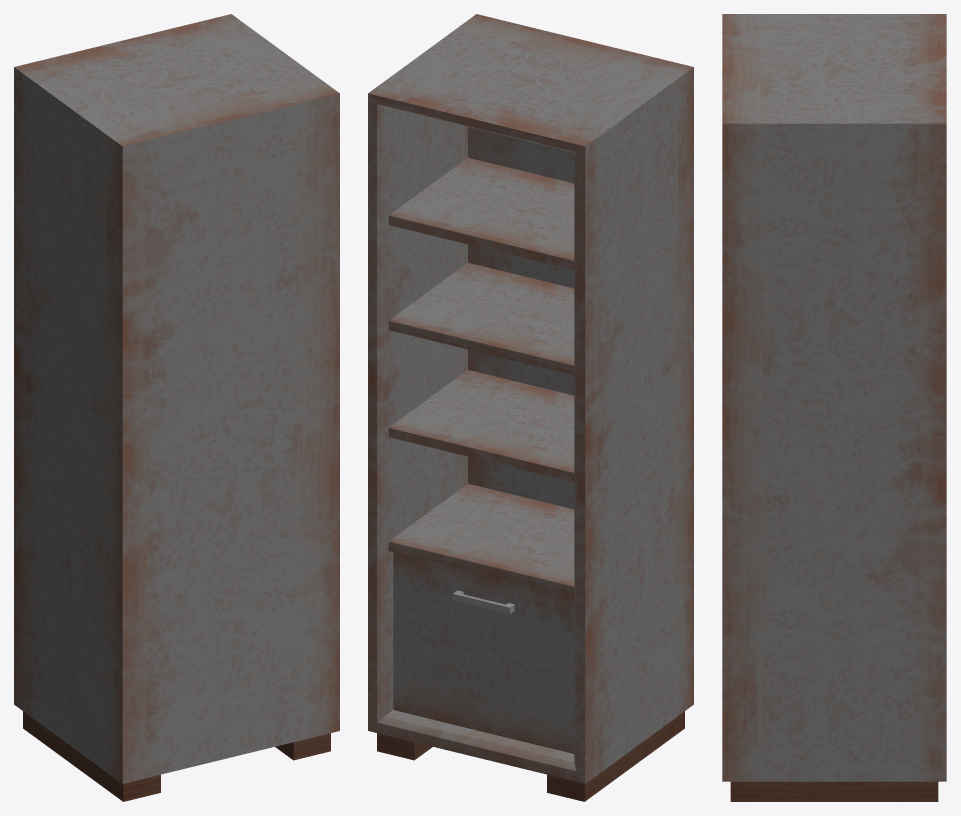
The model's file is ClosetHigh.fbx.
3 renders of one model, left to right at view 1: azimuth 30°, elevation 25°; view 2: azimuth 150°, elevation 25°; view 3: azimuth 270°, elevation 25°, orthographic. The views are drawn at different scales.
Parts seen in each view (by area): view 1: ClossetHigh; view 2: ClossetHigh; view 3: ClossetHigh.
Boxes of the visible parts, x1=… form: ClossetHigh: x1=14, y1=14, x2=339, y2=801; ClossetHigh: x1=368, y1=14, x2=693, y2=801; ClossetHigh: x1=722, y1=14, x2=946, y2=801.
Bounding box in the file's own units: 103 × 298 × 89.
